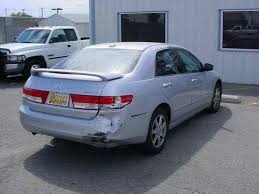Broken-glass: (107, 94, 129, 109)
Dent: (94, 108, 125, 141)
Scratch: (85, 131, 119, 144)
